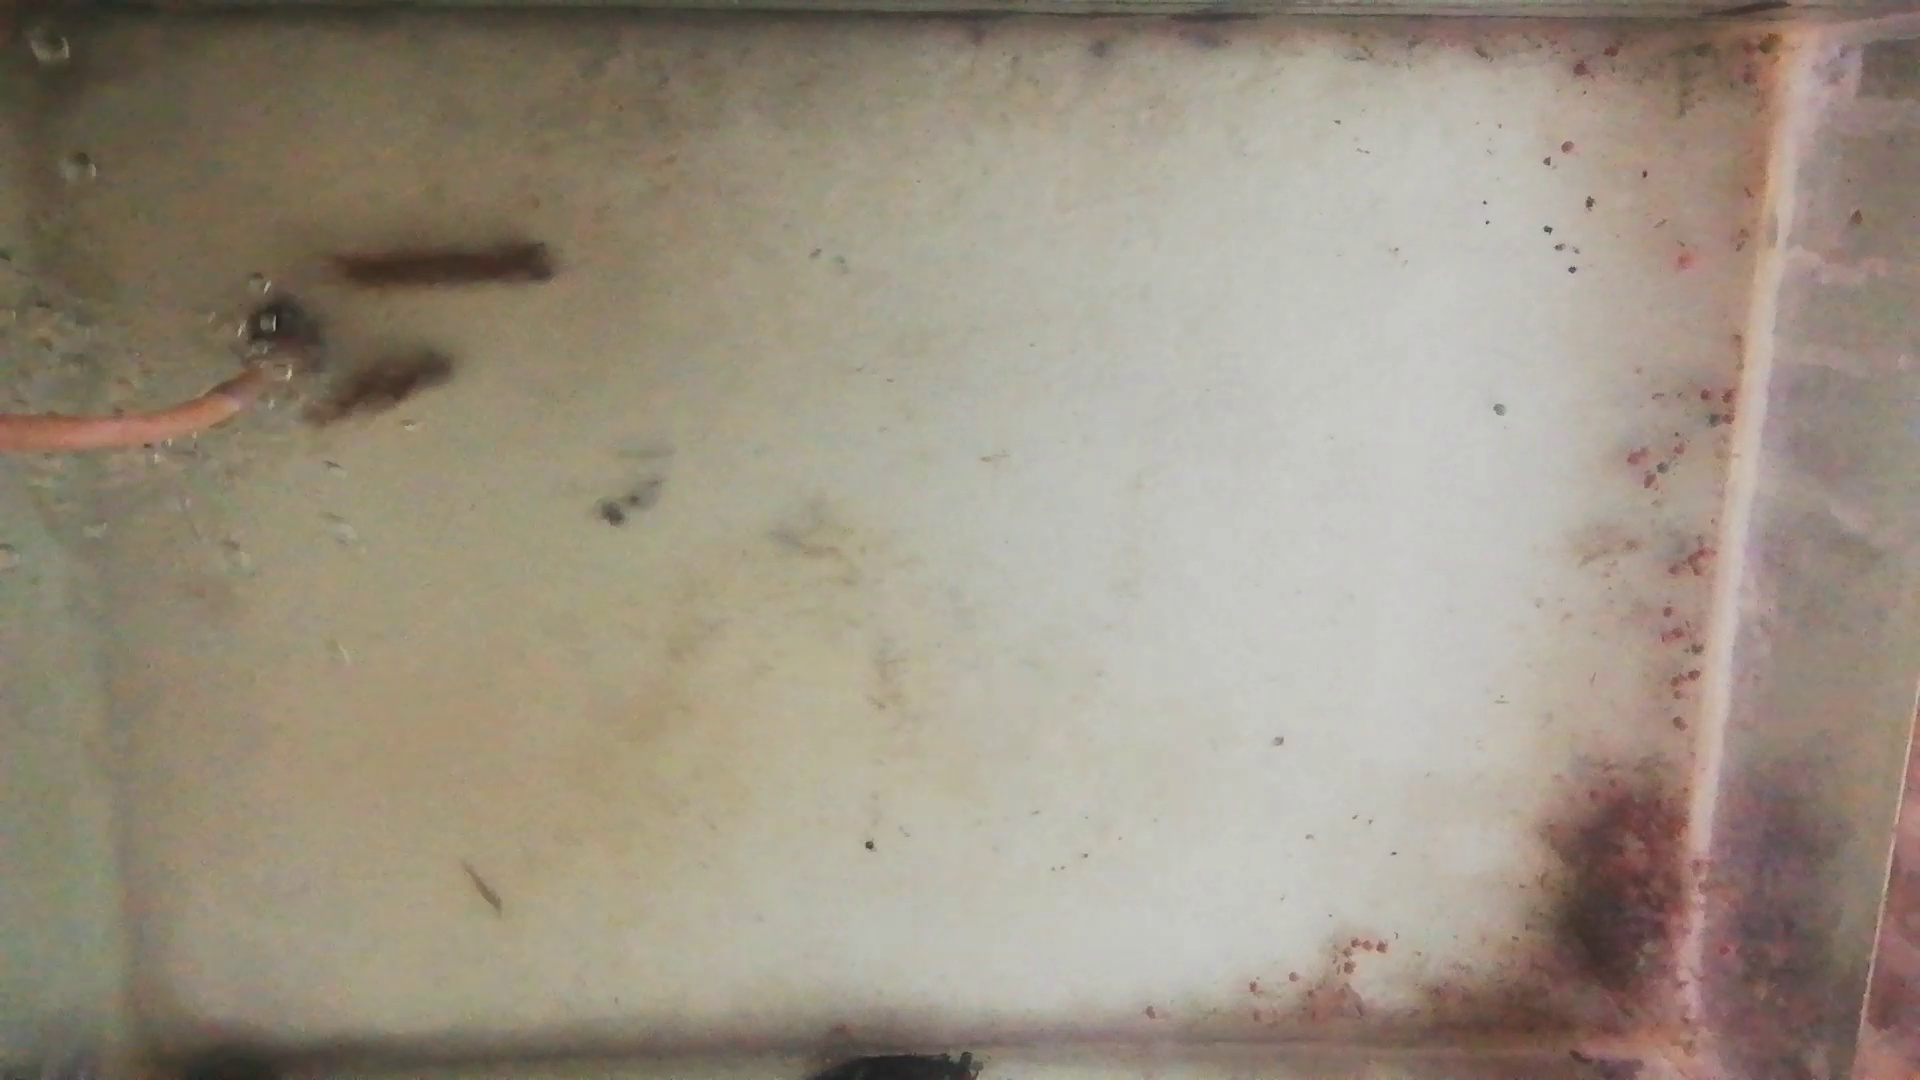fish: (332, 237, 574, 295), (302, 349, 467, 429)
